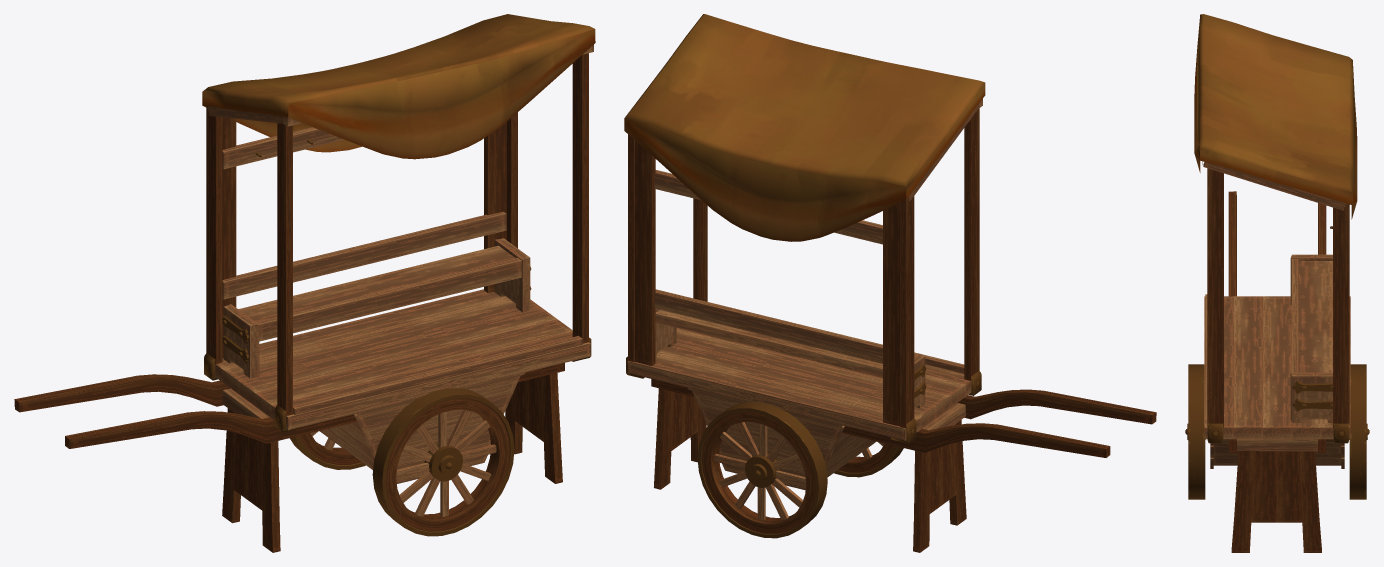
Rendered from Stall_Cart_Empty.gltf.
3 views of the same model, side by side, from view 1: azimuth 30°, elevation 25°; view 2: azimuth 150°, elevation 25°; view 3: azimuth 270°, elevation 25° (orthographic). The views are drawn at different scales.
Parts seen in each view (by area): view 1: Stall_Cart_Empty; view 2: Stall_Cart_Empty; view 3: Stall_Cart_Empty.
Boxes of the visible parts, x1,y1,x2,y2 form: Stall_Cart_Empty: [14, 14, 595, 552]; Stall_Cart_Empty: [624, 14, 1156, 552]; Stall_Cart_Empty: [1185, 14, 1369, 552].
Size of the model in its own units: 3.02 by 2.63 by 1.06.
Materials: 3 (3 with a texture image).
